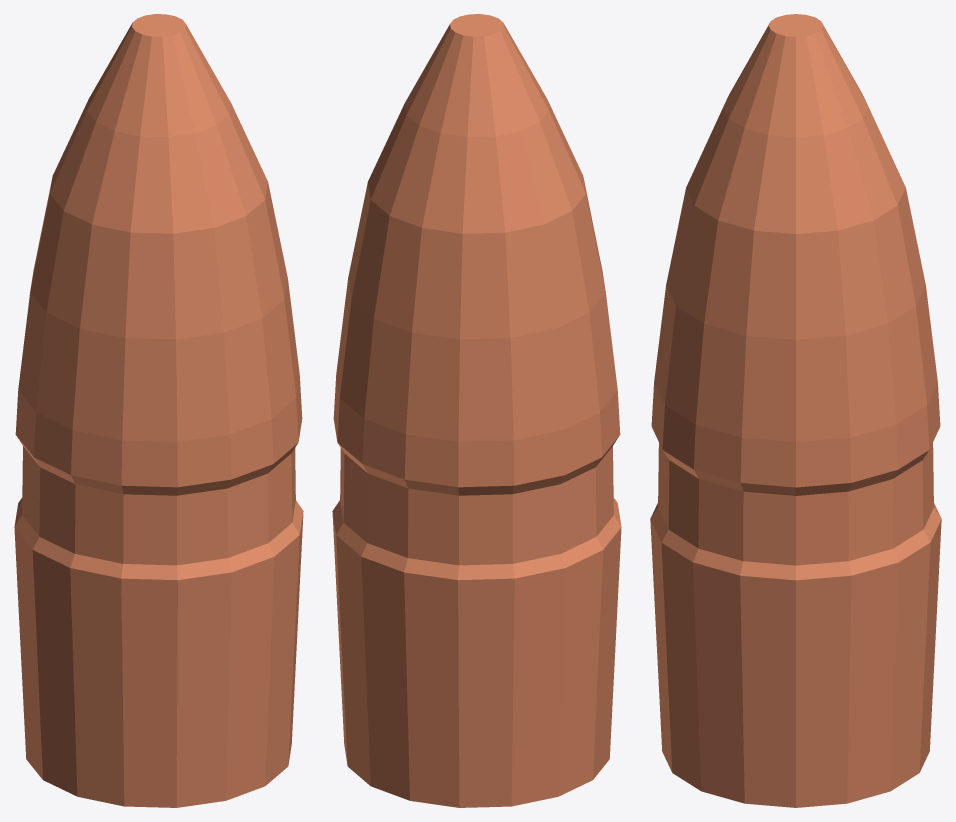
3 renders of one model, left to right at view 1: azimuth 30°, elevation 25°; view 2: azimuth 150°, elevation 25°; view 3: azimuth 270°, elevation 25°, orthographic.
Parts seen in each view (by area): view 1: Cylinder.013; view 2: Cylinder.013; view 3: Cylinder.013.
Boxes of the visible parts, left/top/right/bottom form: Cylinder.013: left=14, top=14, right=303, bottom=807; Cylinder.013: left=332, top=14, right=621, bottom=807; Cylinder.013: left=650, top=14, right=941, bottom=807.
Size of the model in its own units: 0.504 by 1.39 by 0.504.
